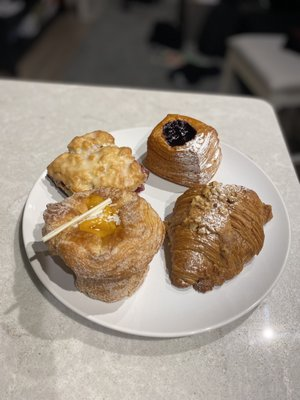curry: (0, 76, 300, 386)
salad: (144, 113, 223, 187)
sushi: (143, 112, 223, 187)
